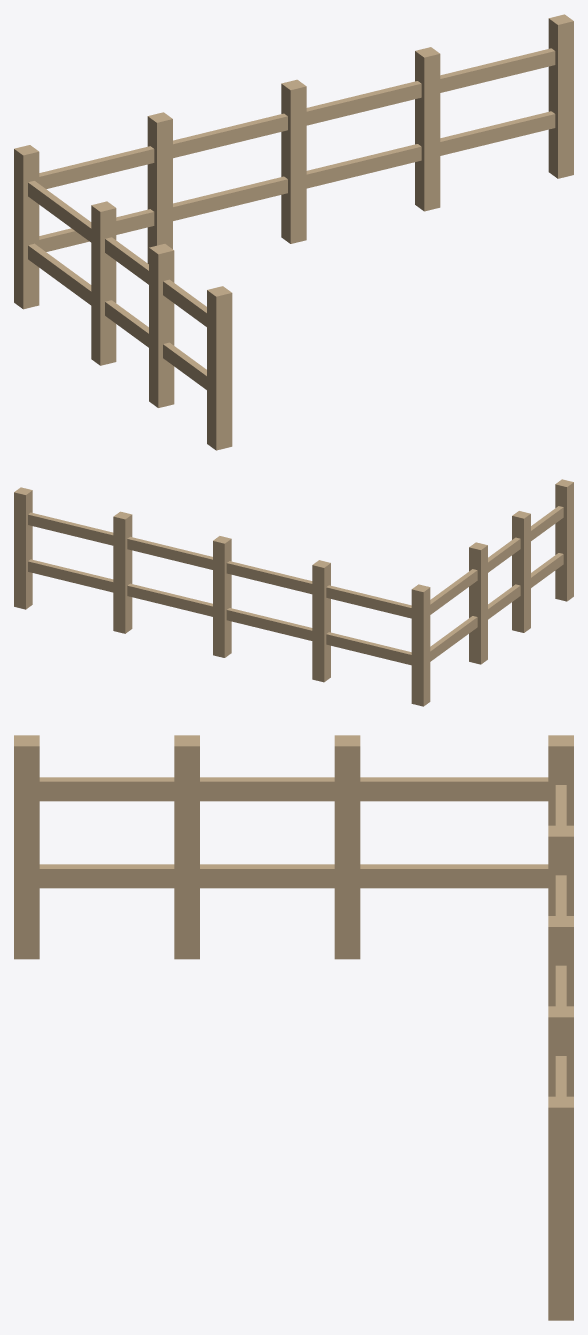
The model's file is plot.glb.
3 views of the same model, one above another, from view 1: azimuth 30°, elevation 25°; view 2: azimuth 150°, elevation 25°; view 3: azimuth 270°, elevation 25° (orthographic). The views are drawn at different scales.
Parts seen in each view (by area): view 1: plot; view 2: plot; view 3: plot.
Part boxes in pixels (bbox=[...]): plot: bbox=[14, 14, 573, 450]; plot: bbox=[14, 479, 573, 706]; plot: bbox=[14, 735, 573, 1320].
Bounding box in the file's own units: 4.12 × 1.1 × 2.62.
